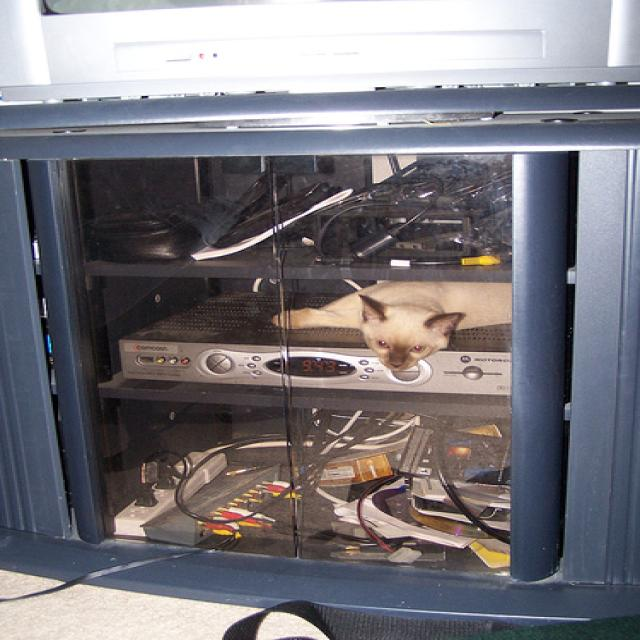cat: (274, 279, 513, 375)
